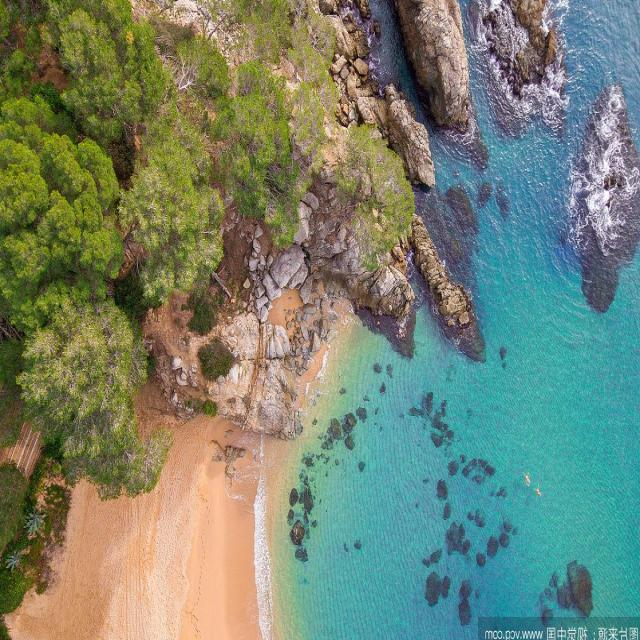reef: (350, 0, 579, 140)
